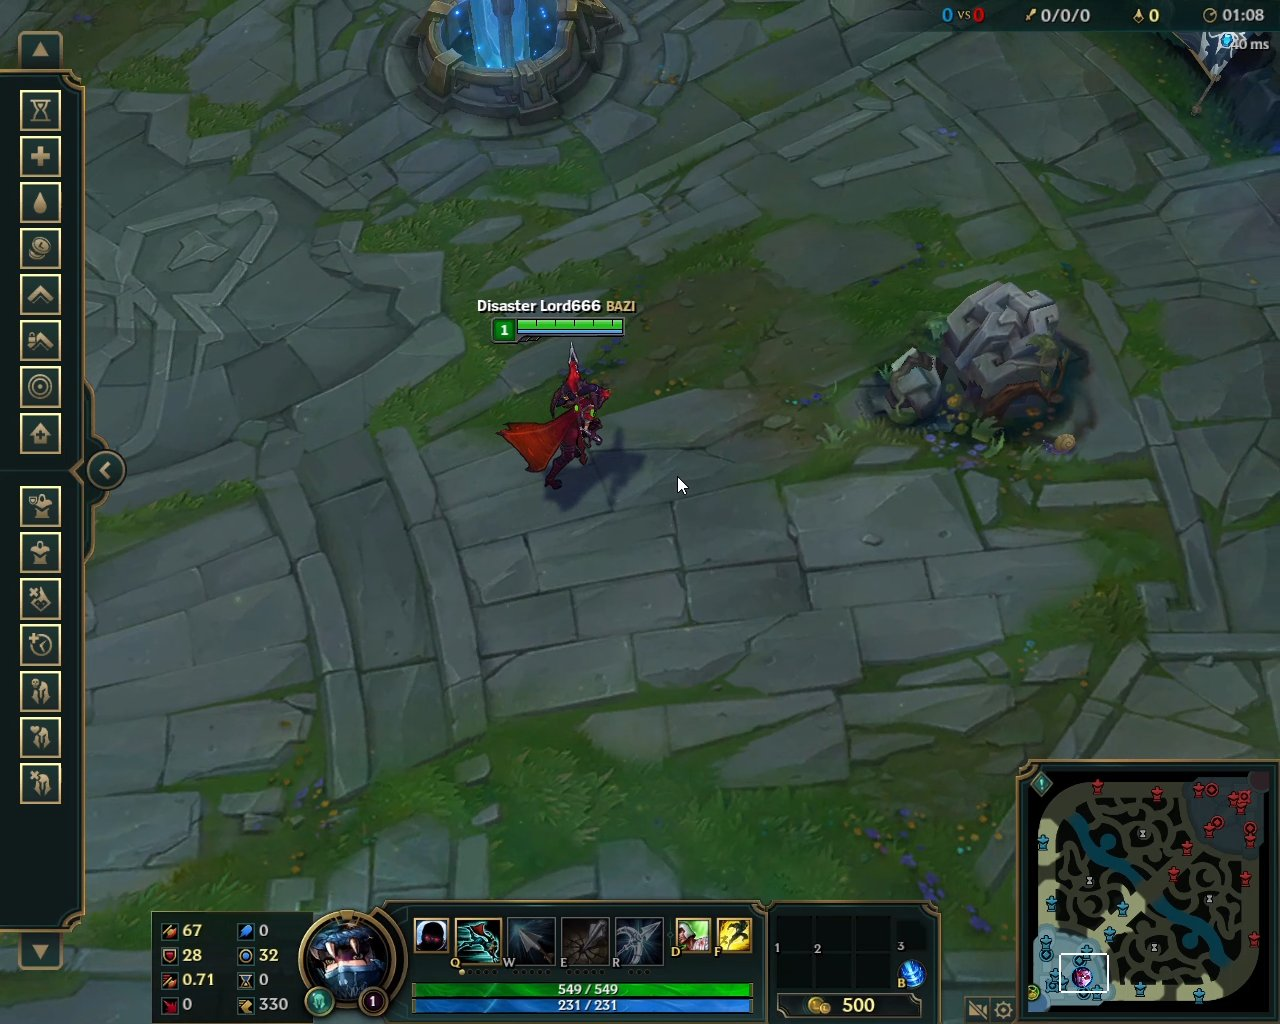Vayne: (493, 338, 616, 505)
